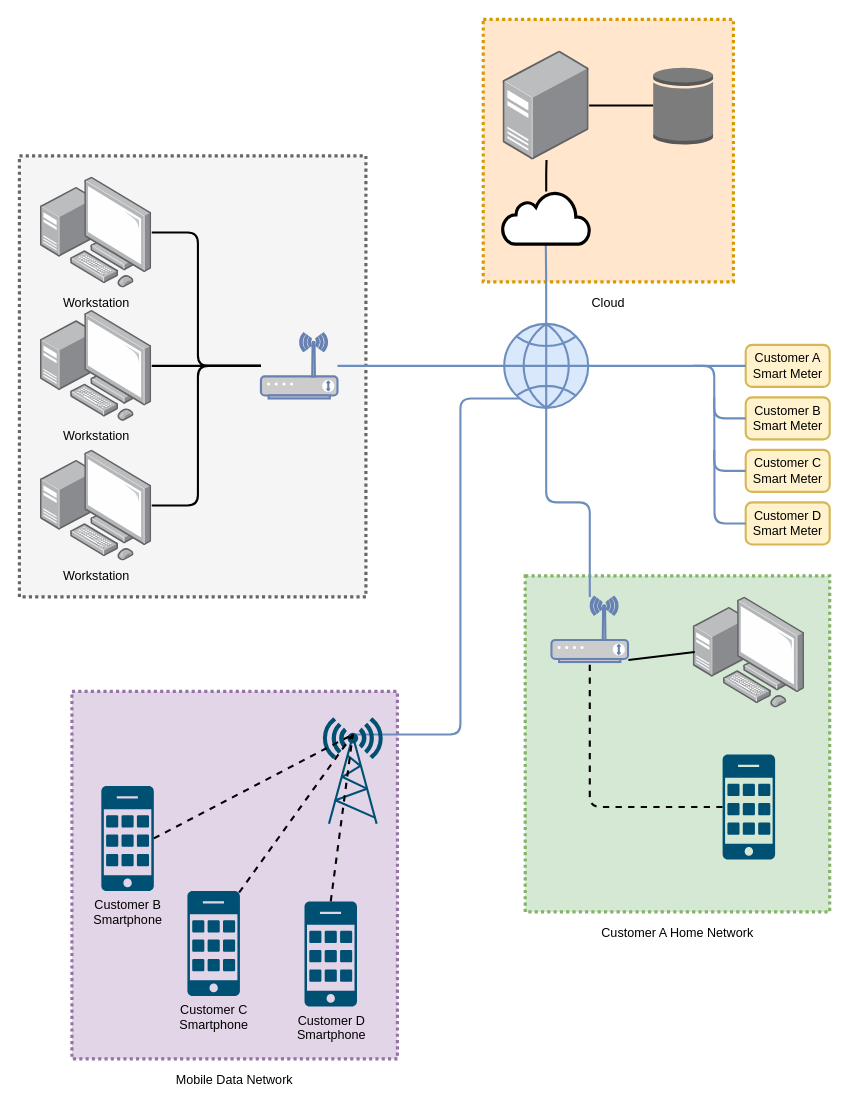
This 849x1106 diagram has some shape labels left out. Each missing label, with the box of its shape:
Cloud Provider: (500, 190, 591, 245)
Customer A PC: (693, 596, 804, 708)
Customer A Smartphone: (722, 754, 775, 859)
Database: (651, 64, 714, 146)
Internet: (503, 322, 589, 408)
Power Company Network: (17, 154, 367, 598)
Server: (503, 50, 589, 160)
